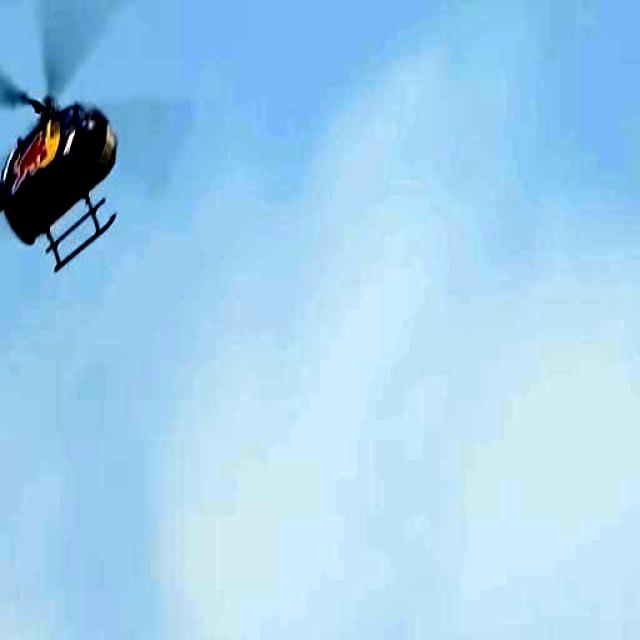drone: (0, 42, 135, 318)
